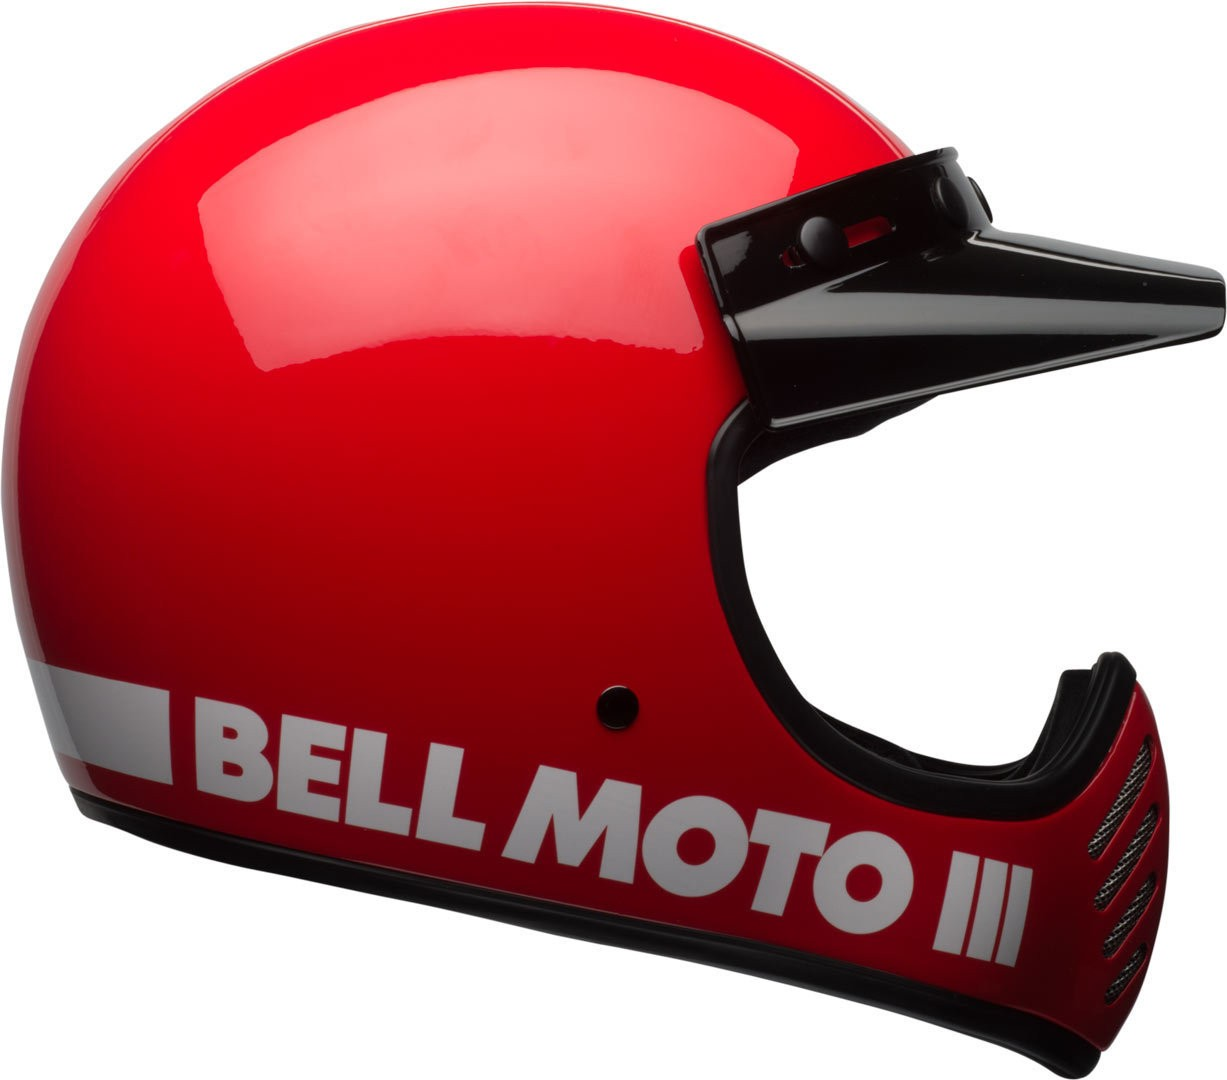helmet: (11, 2, 1214, 1080)
